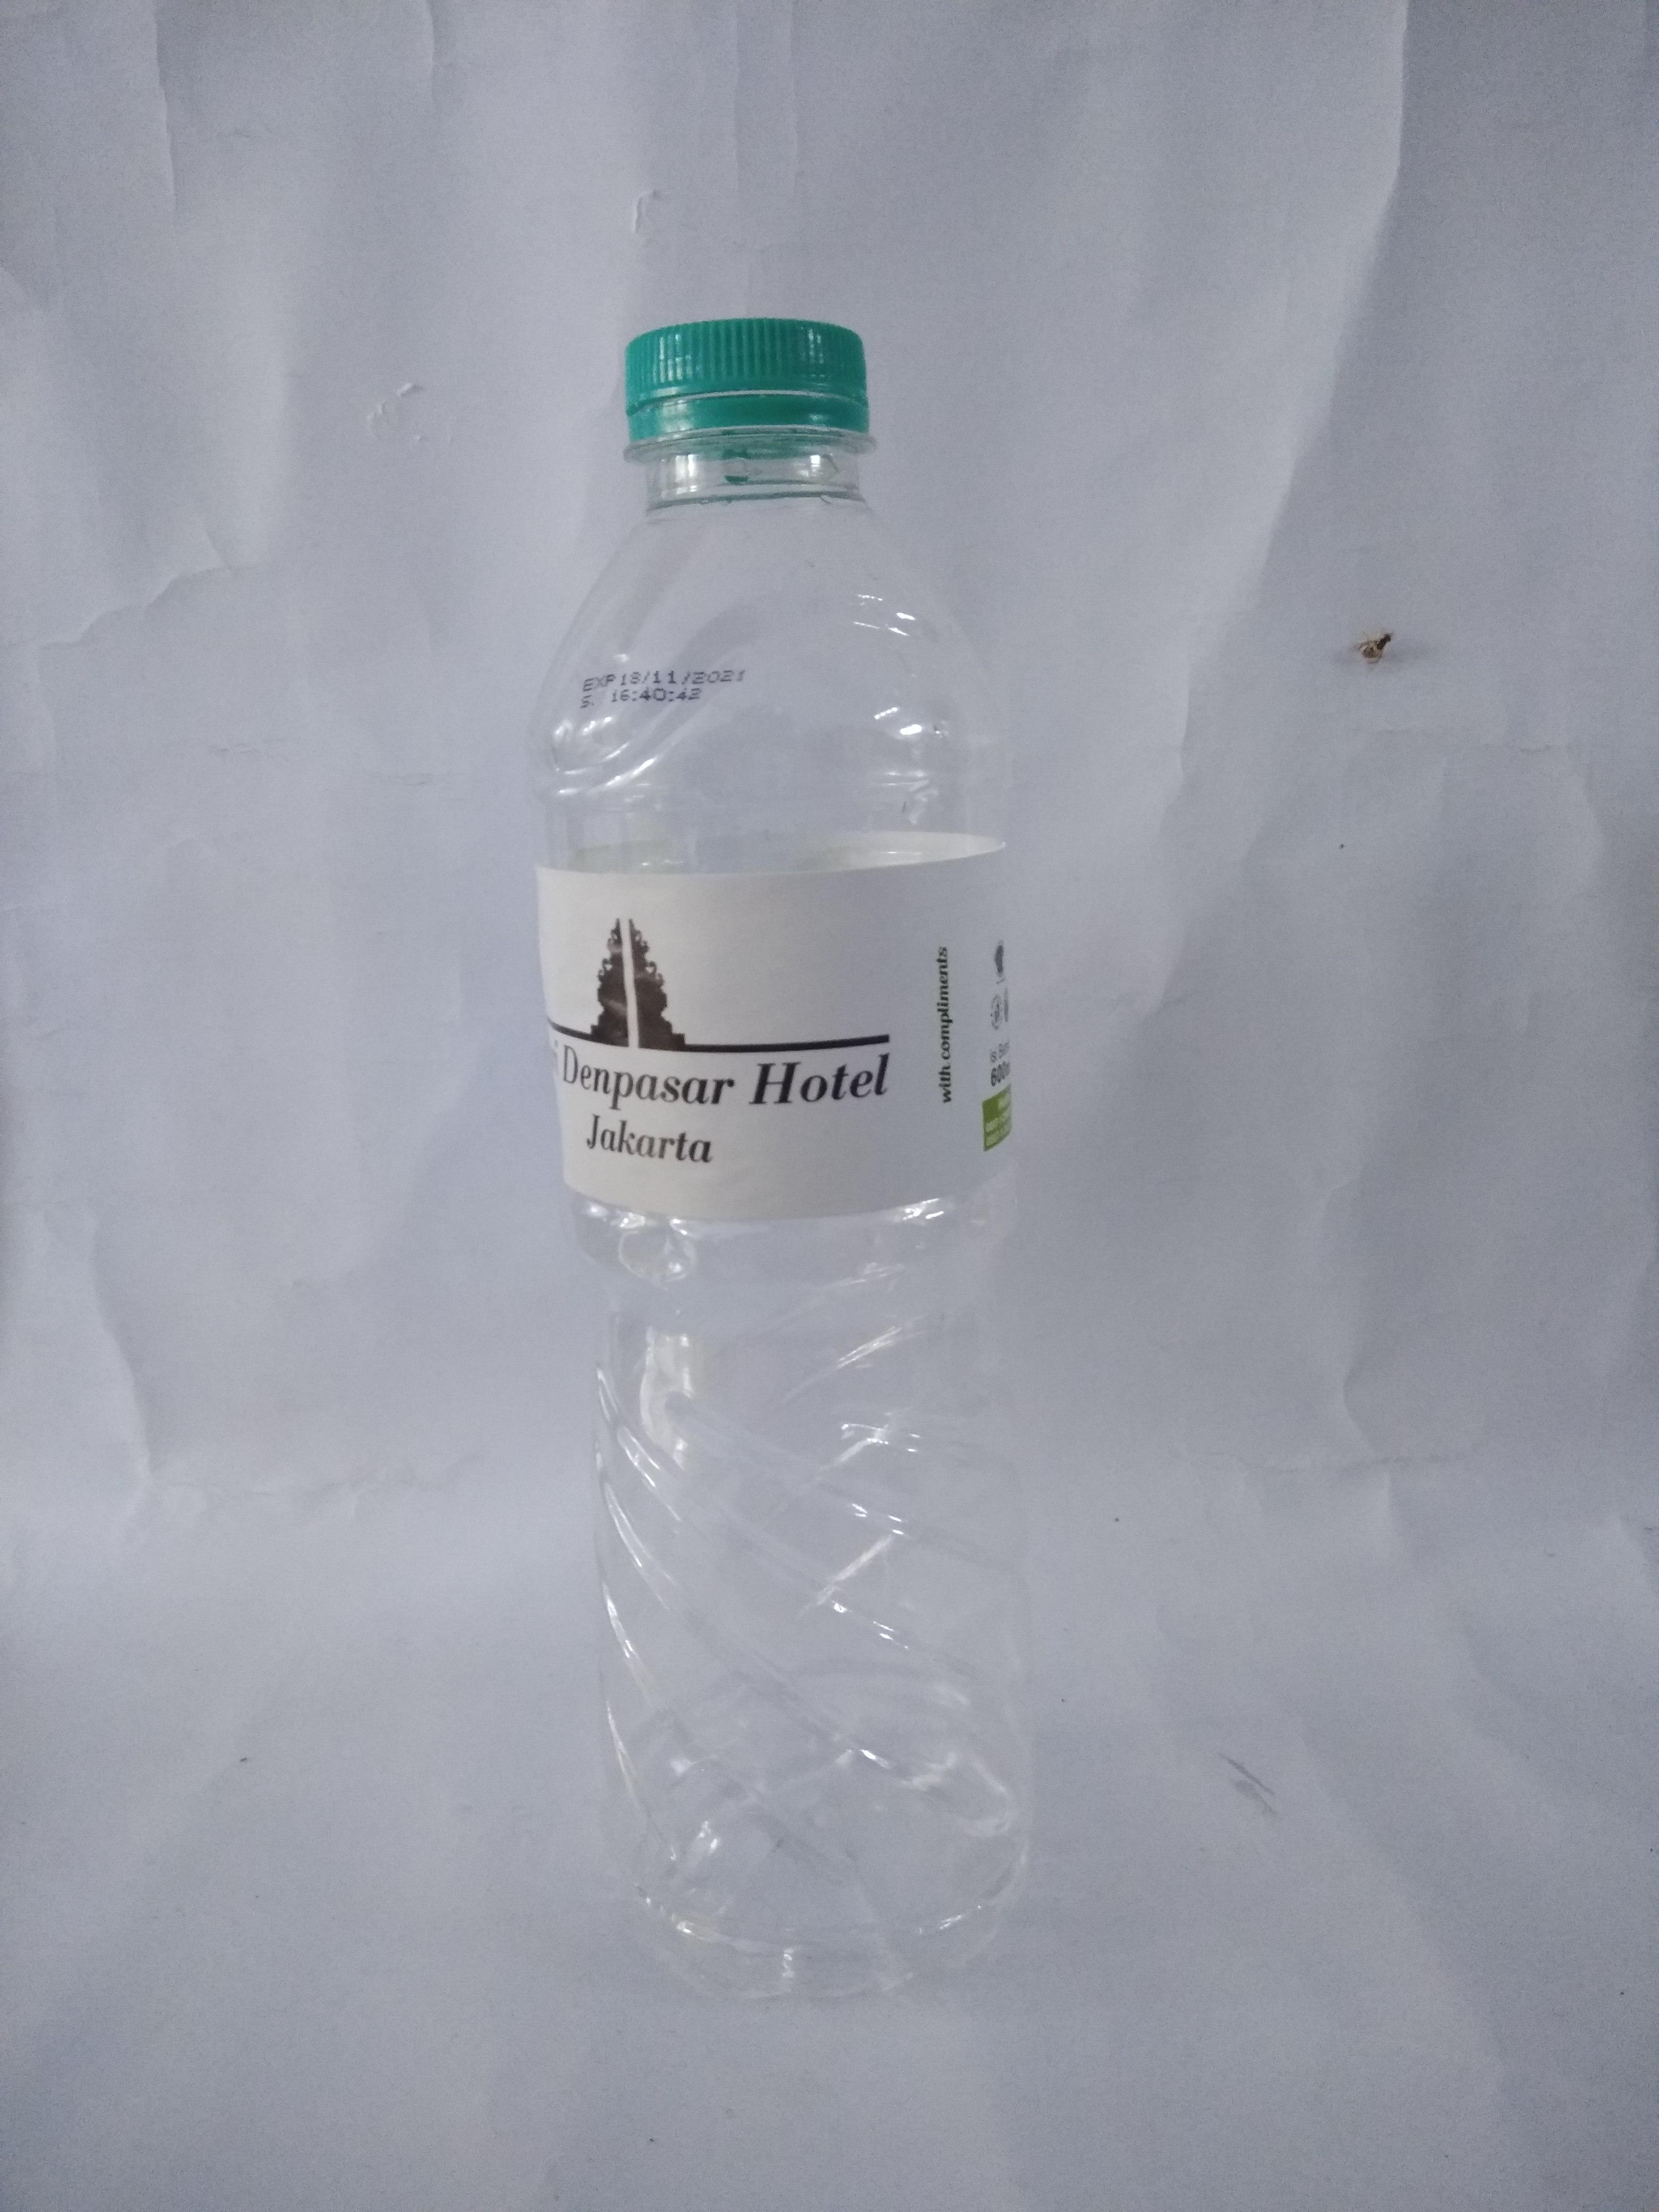HDPE: (619, 315, 871, 451)
PETE: (535, 449, 1046, 2022)
